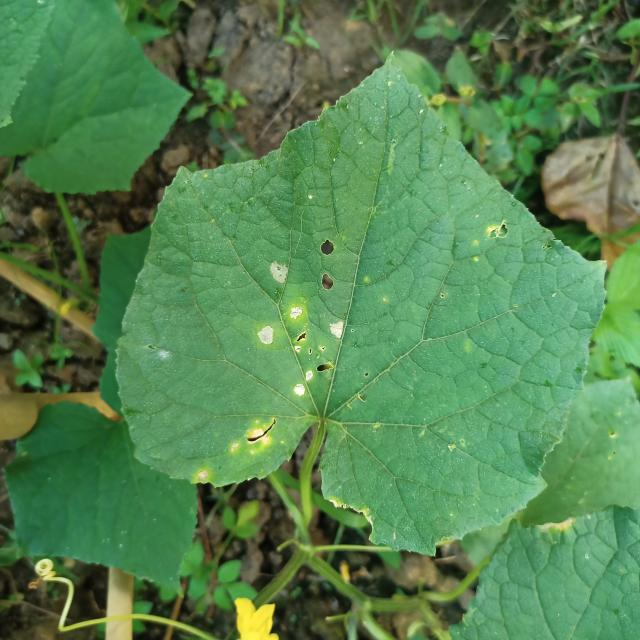disease_cucumber: (253, 252, 360, 409)
